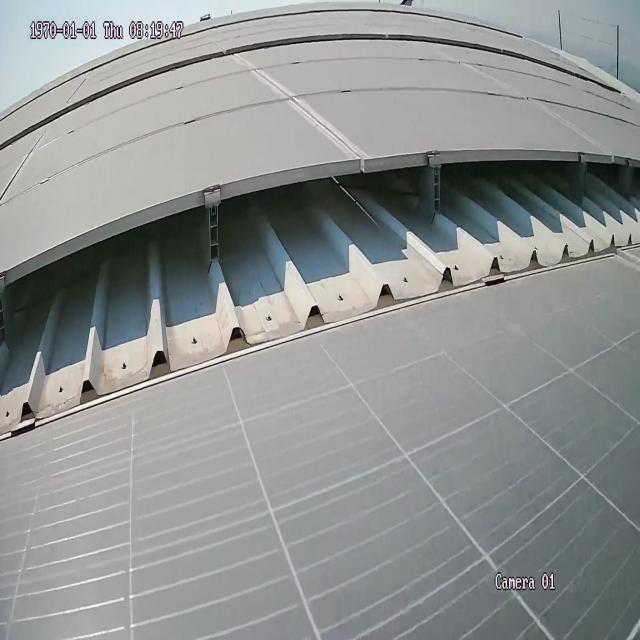interior panel: (237, 55, 363, 155), (0, 133, 50, 209)
outher panel: (0, 146, 634, 446)
